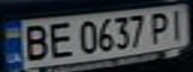0: (75, 17, 100, 55)
3: (112, 13, 133, 51)
6: (97, 16, 118, 53)
7: (127, 11, 151, 47)
B: (18, 21, 54, 62)
E: (42, 19, 75, 60)
I: (163, 7, 190, 40)
P: (145, 9, 175, 44)
